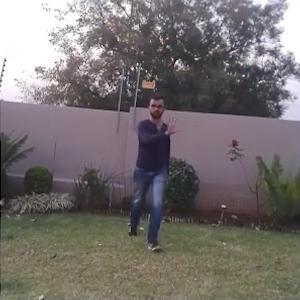follow_hand: (161, 114, 184, 137)
